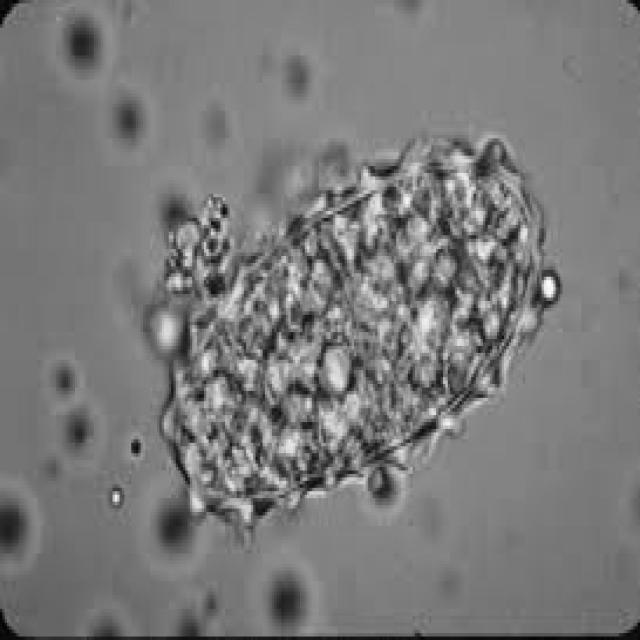Ascaris Lumbricoides: (163, 133, 543, 552)
